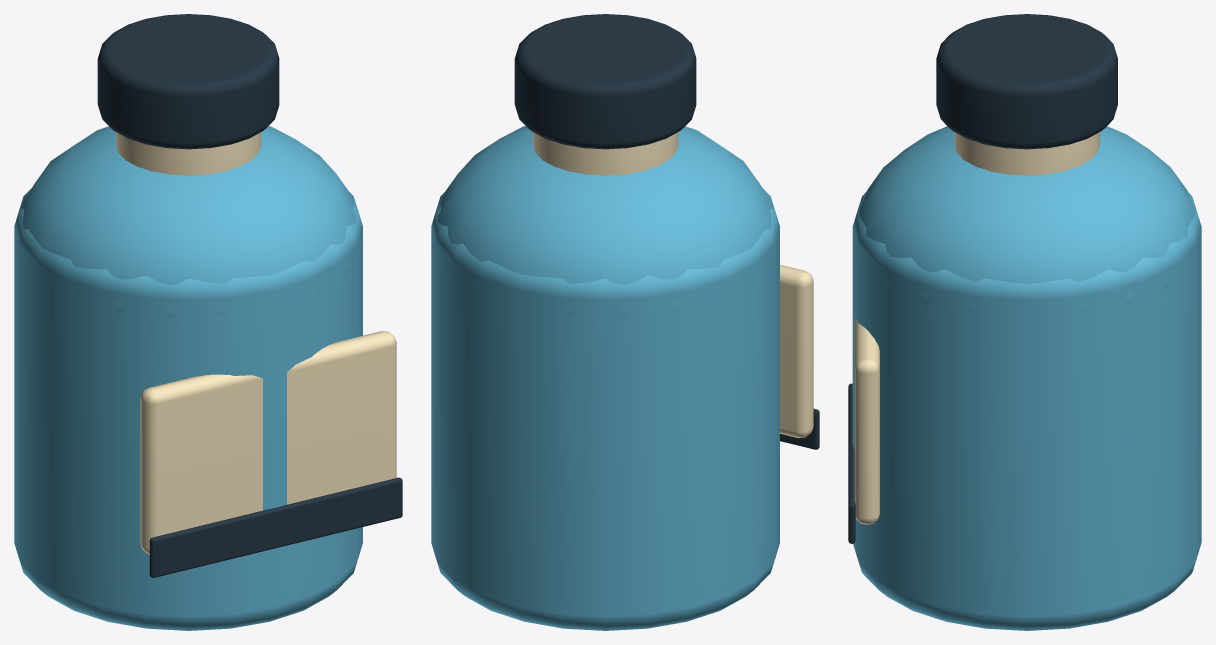
File: water.glb
3 views of the same model, side by side, from view 1: azimuth 30°, elevation 25°; view 2: azimuth 150°, elevation 25°; view 3: azimuth 270°, elevation 25° (orthographic).
Visible parts, largest first — view 1: Bottle, Shoulder, Label, Cap, Stripe, Neck; view 2: Bottle, Shoulder, Cap, Label, Neck, Stripe; view 3: Bottle, Shoulder, Cap, Label, Neck, Stripe.
Boxes of the visible parts, x1,y1,x2,y2 form: Bottle: (14, 188, 362, 630); Shoulder: (17, 126, 361, 318); Label: (140, 331, 396, 554); Cap: (97, 14, 279, 149); Stripe: (149, 477, 402, 577); Neck: (116, 132, 261, 175); Bottle: (431, 189, 779, 630); Shoulder: (432, 126, 776, 318); Cap: (514, 14, 696, 149); Label: (780, 264, 813, 438); Neck: (533, 132, 678, 175); Stripe: (780, 408, 819, 449); Bottle: (852, 192, 1201, 630); Shoulder: (858, 126, 1195, 313); Cap: (936, 14, 1117, 149); Label: (854, 318, 879, 524); Neck: (954, 132, 1099, 175); Stripe: (848, 383, 855, 543).
Bounding box in the file's own units: 0.48 × 0.785 × 0.486.
